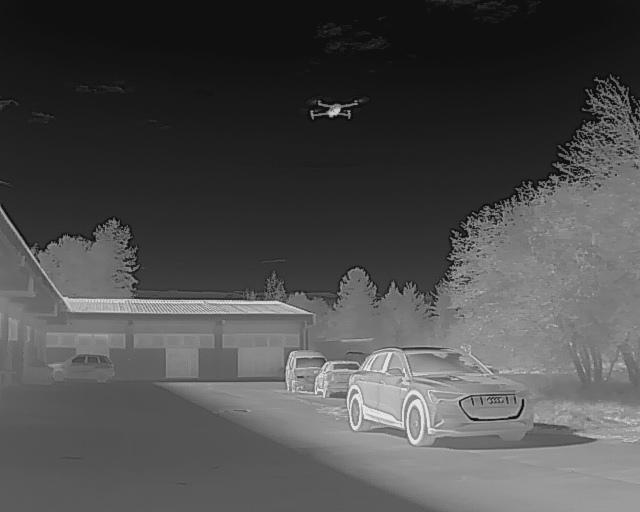drone: (301, 94, 370, 130)
